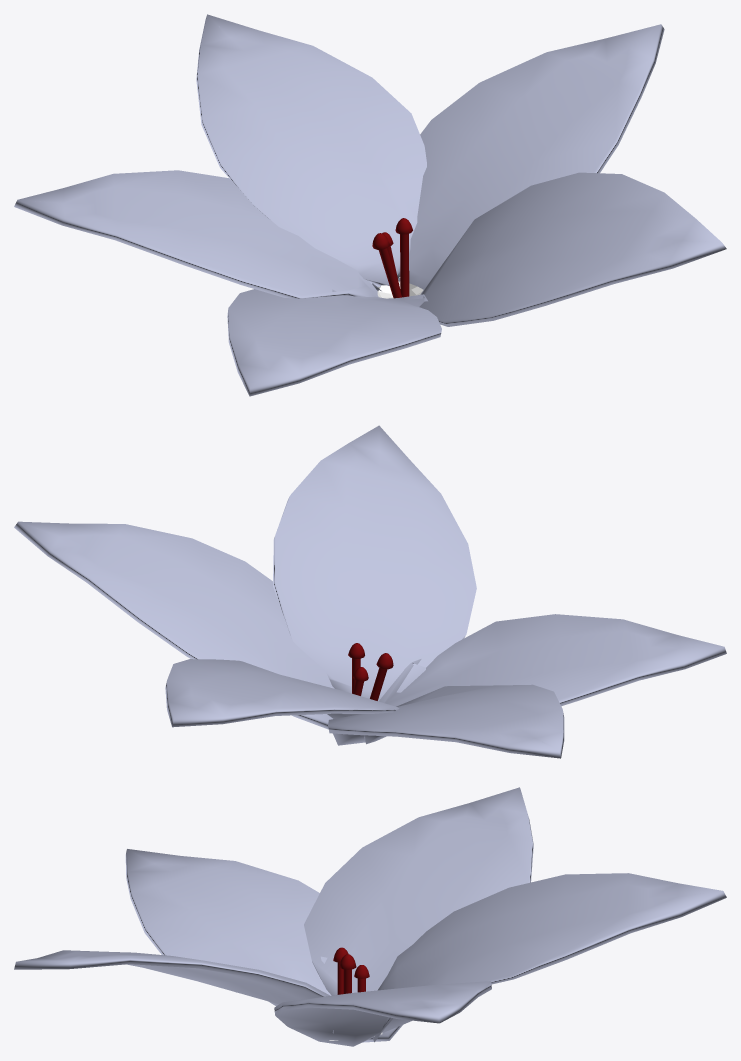
The model's file is lunar_tear.obj.
3 renders of one model, top to bottom at view 1: azimuth 30°, elevation 25°; view 2: azimuth 150°, elevation 25°; view 3: azimuth 270°, elevation 25°, orthographic. The views are drawn at different scales.
Visible parts, largest first — view 1: FP1_emission_0, FP2_emission_0, FP3_emission_0, FP5_emission_0, FP4_emission_0, pSphere2_smolThings_0, pSphere4_smolThings_0; view 2: FP3_emission_0, FP2_emission_0, FP4_emission_0, FP5_emission_0, FP1_emission_0; view 3: FP5_emission_0, FP1_emission_0, FP4_emission_0, FP2_emission_0, FP3_emission_0, pSphere2_smolThings_0.
Boxes of the visible parts, x1=… form: FP1_emission_0: x1=196, y1=14, x2=426, y2=286; FP2_emission_0: x1=398, y1=24, x2=664, y2=289; FP3_emission_0: x1=419, y1=172, x2=726, y2=326; FP5_emission_0: x1=14, y1=170, x2=378, y2=298; FP4_emission_0: x1=227, y1=283, x2=441, y2=396; pSphere2_smolThings_0: x1=395, y1=218, x2=412, y2=297; pSphere4_smolThings_0: x1=372, y1=233, x2=401, y2=298; FP3_emission_0: x1=273, y1=425, x2=476, y2=701; FP2_emission_0: x1=14, y1=521, x2=334, y2=729; FP4_emission_0: x1=364, y1=614, x2=726, y2=744; FP5_emission_0: x1=328, y1=684, x2=564, y2=758; FP1_emission_0: x1=165, y1=659, x2=399, y2=727; FP5_emission_0: x1=304, y1=787, x2=533, y2=1042; FP1_emission_0: x1=373, y1=873, x2=726, y2=1042; FP4_emission_0: x1=125, y1=849, x2=331, y2=1040; FP2_emission_0: x1=274, y1=981, x2=491, y2=1046; FP3_emission_0: x1=14, y1=950, x2=333, y2=1033; pSphere2_smolThings_0: x1=339, y1=954, x2=356, y2=993.
Size of the model in its own units: 1.56 by 0.4486 by 1.63.
